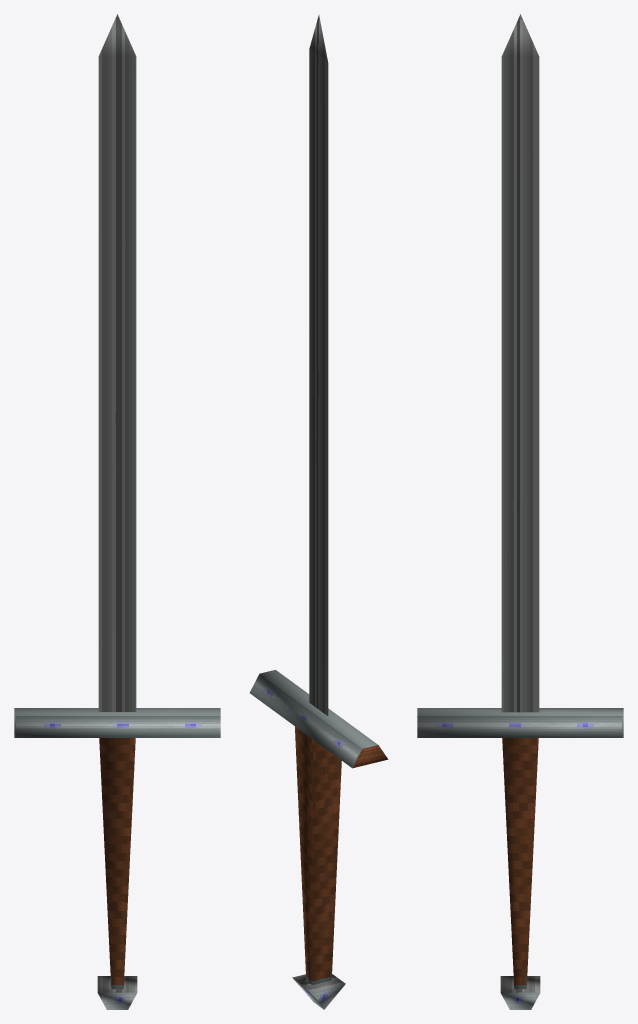
The model's file is H2Sword.fbx.
3 views of the same model, side by side, from view 1: azimuth 90°, elevation 25°; view 2: azimuth 210°, elevation 25°; view 3: azimuth 270°, elevation 25° (orthographic).
Parts seen in each view (by area): view 1: U3DMesh; view 2: U3DMesh; view 3: U3DMesh.
Boxes of the visible parts, <box> form: U3DMesh: <box>14,14,220,1009</box>; U3DMesh: <box>249,15,388,1009</box>; U3DMesh: <box>417,14,623,1009</box>.
Bounding box in the file's own units: 0.0566 × 1.49 × 0.2794.
